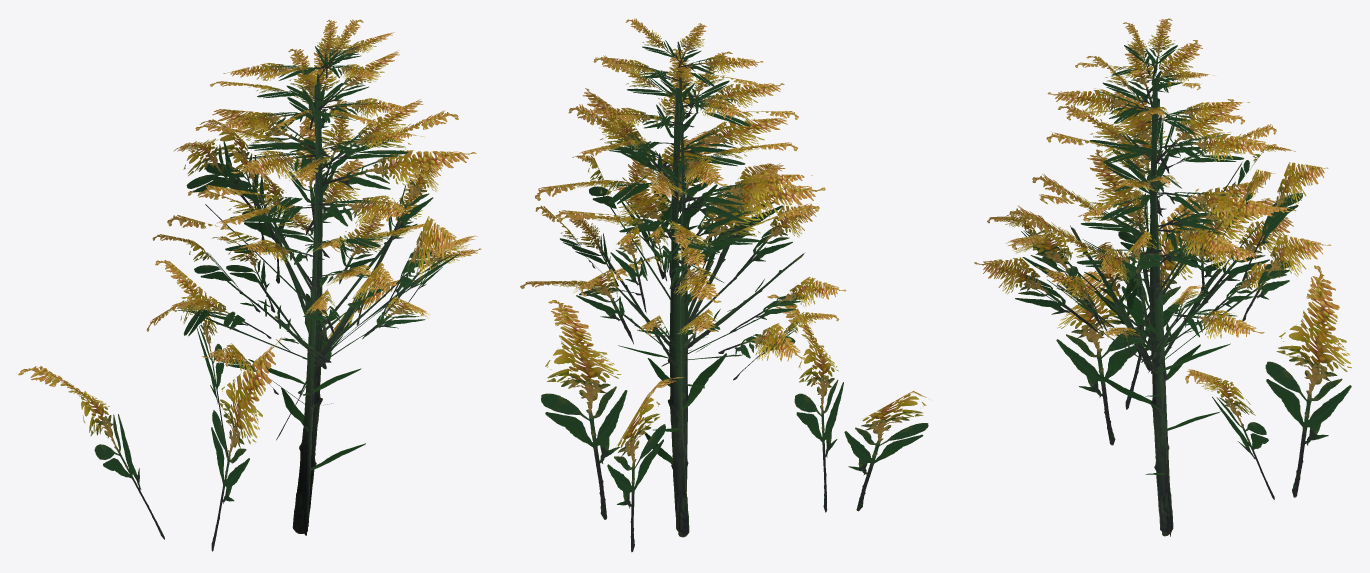
Rendered from arden_forest_ambrosia_01_foliage.fbx.
The picture shows the model from 3 angles, left to right: view 1: azimuth 30°, elevation 25°; view 2: azimuth 150°, elevation 25°; view 3: azimuth 270°, elevation 25°; orthographic projection. The views are drawn at different scales.
Parts seen in each view (by area): view 1: arden_forest_ambrosia_01_foliage; view 2: arden_forest_ambrosia_01_foliage; view 3: arden_forest_ambrosia_01_foliage.
Boxes of the visible parts, box(x1,y1,x2,y2) form: arden_forest_ambrosia_01_foliage: box(18, 19, 481, 551); arden_forest_ambrosia_01_foliage: box(520, 18, 928, 552); arden_forest_ambrosia_01_foliage: box(974, 18, 1351, 536).
Bounding box in the file's own units: 81.98 × 94.53 × 64.45.
